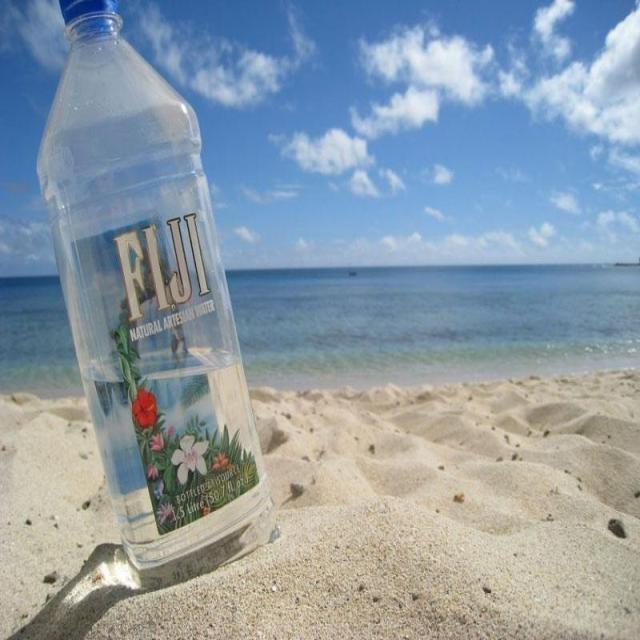plastic bottle: (35, 0, 277, 593)
